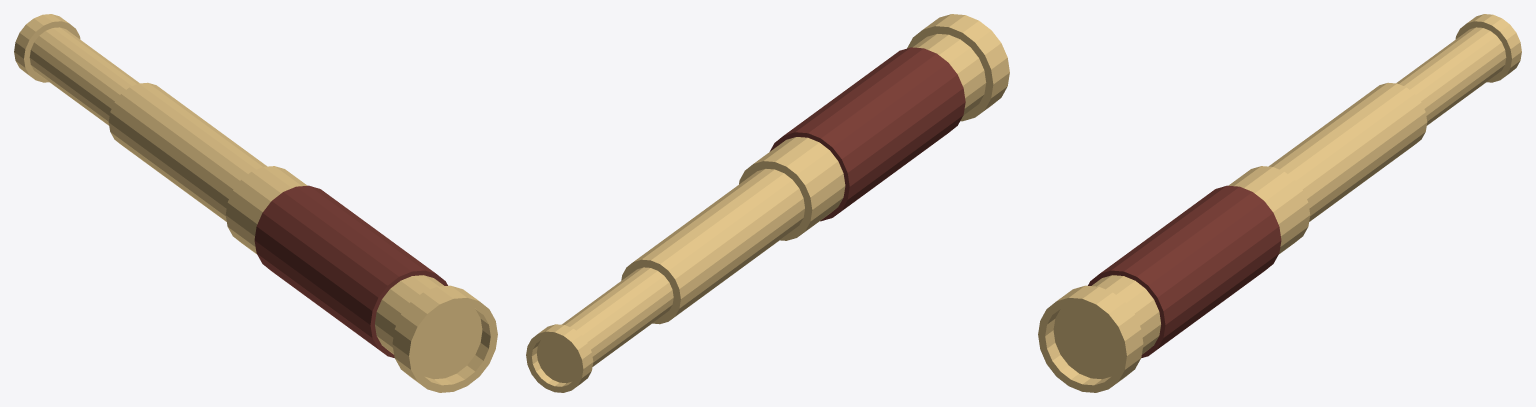
File: Prop_Spyglass.fbx
The picture shows the model from 3 angles, left to right: view 1: azimuth 30°, elevation 25°; view 2: azimuth 150°, elevation 25°; view 3: azimuth 330°, elevation 25°; orthographic projection.
Parts seen in each view (by area): view 1: Spyglass_Brass, Spyglass_Grip; view 2: Spyglass_Brass, Spyglass_Grip; view 3: Spyglass_Brass, Spyglass_Grip.
Part boxes in pixels (x1,y1,x2,y2): Spyglass_Brass: (14, 14, 497, 392); Spyglass_Grip: (254, 185, 447, 357); Spyglass_Brass: (526, 14, 1009, 392); Spyglass_Grip: (769, 47, 965, 221); Spyglass_Brass: (1038, 14, 1521, 392); Spyglass_Grip: (1088, 185, 1281, 357).
Bounding box in the file's own units: 0.062 × 0.062 × 0.496.
